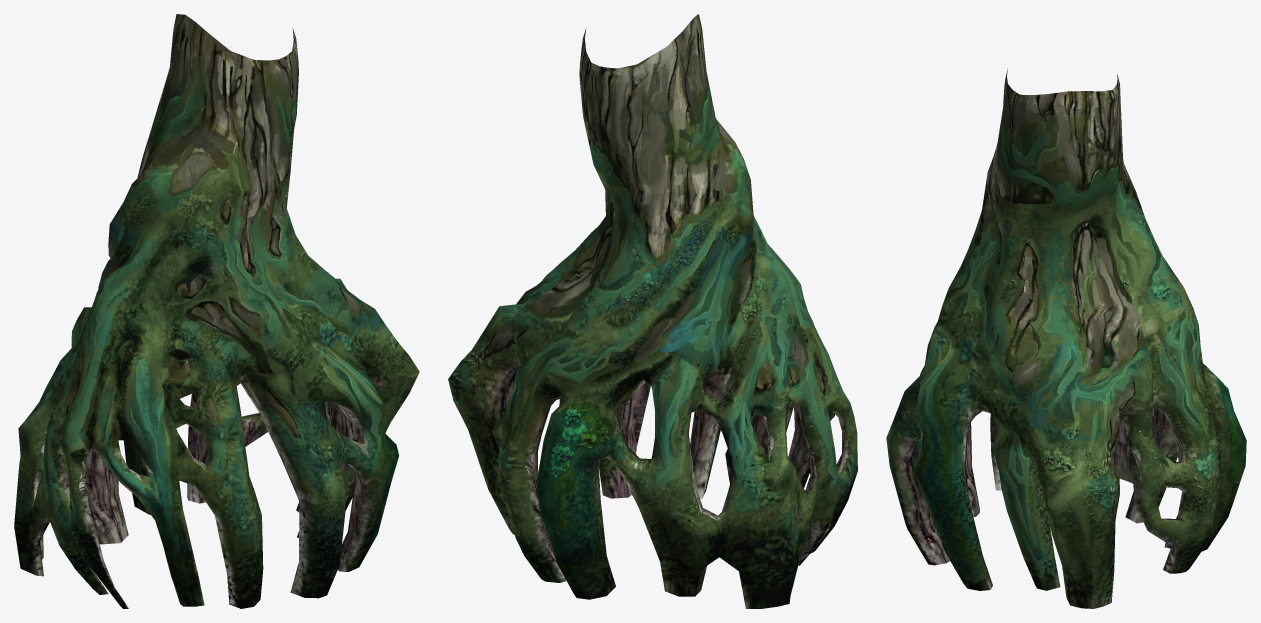
The model's file is dro_largetree_roots.glb.
3 renders of one model, left to right at view 1: azimuth 30°, elevation 25°; view 2: azimuth 150°, elevation 25°; view 3: azimuth 270°, elevation 25°, orthographic. The views are drawn at different scales.
Parts seen in each view (by area): view 1: dro_largetree_roots; view 2: dro_largetree_roots; view 3: dro_largetree_roots.
Boxes of the visible parts, x1,y1,x2,y2 form: dro_largetree_roots: (14, 14, 419, 608); dro_largetree_roots: (448, 14, 857, 608); dro_largetree_roots: (886, 68, 1246, 608).
Bounding box in the file's own units: 2.13 × 3.01 × 1.9.
2 materials, 2 textured.
